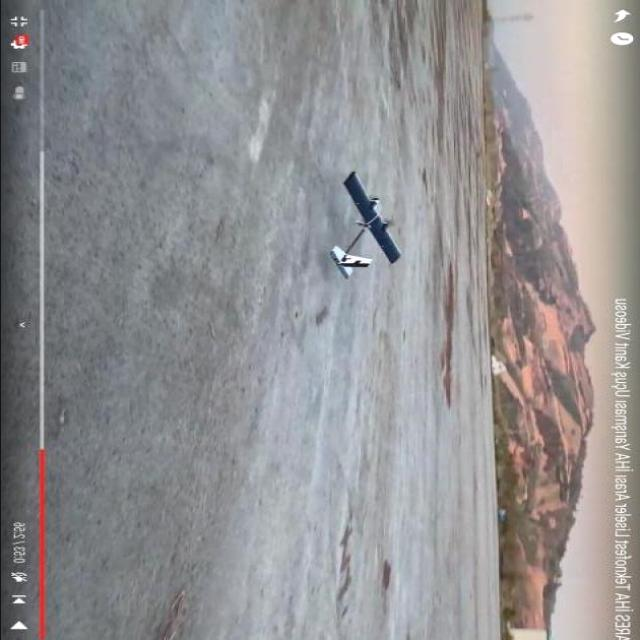plane: (328, 170, 403, 280)
